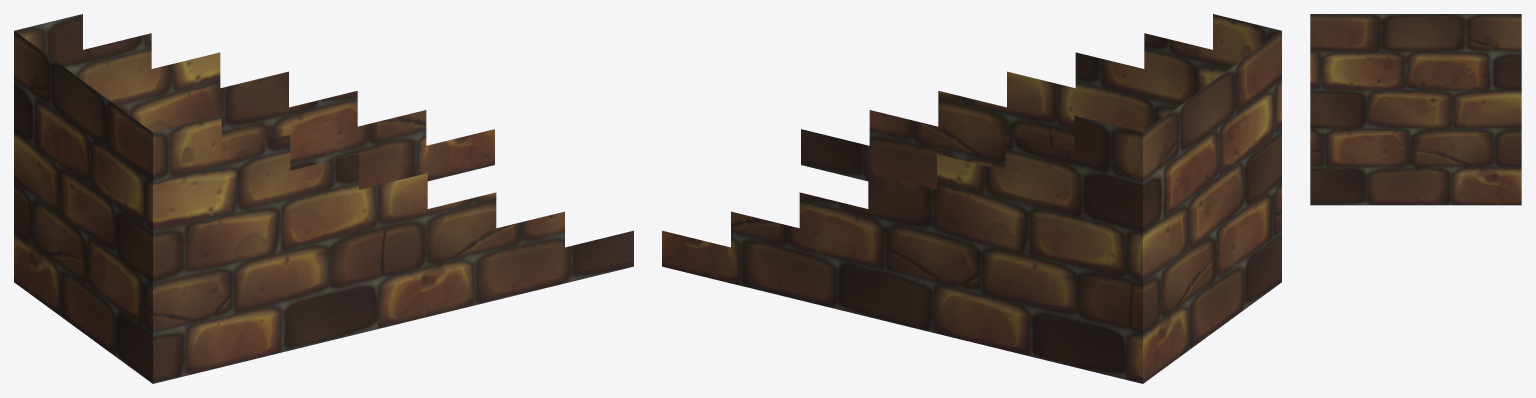
File: MOD_Stairs_02_WallCover_02_half.fbx
3 renders of one model, left to right at view 1: azimuth 30°, elevation 25°; view 2: azimuth 150°, elevation 25°; view 3: azimuth 270°, elevation 25°, orthographic. The views are drawn at different scales.
Visible parts, largest first — view 1: MOD_Stairs_02_WallCover_02_half; view 2: MOD_Stairs_02_WallCover_02_half; view 3: MOD_Stairs_02_WallCover_02_half.
Boxes of the visible parts, left/top/right/bottom form: MOD_Stairs_02_WallCover_02_half: left=14, top=14, right=633, bottom=383; MOD_Stairs_02_WallCover_02_half: left=662, top=14, right=1281, bottom=383; MOD_Stairs_02_WallCover_02_half: left=1310, top=14, right=1521, bottom=205.
Bounding box in the file's own units: 400 × 200 × 200.
